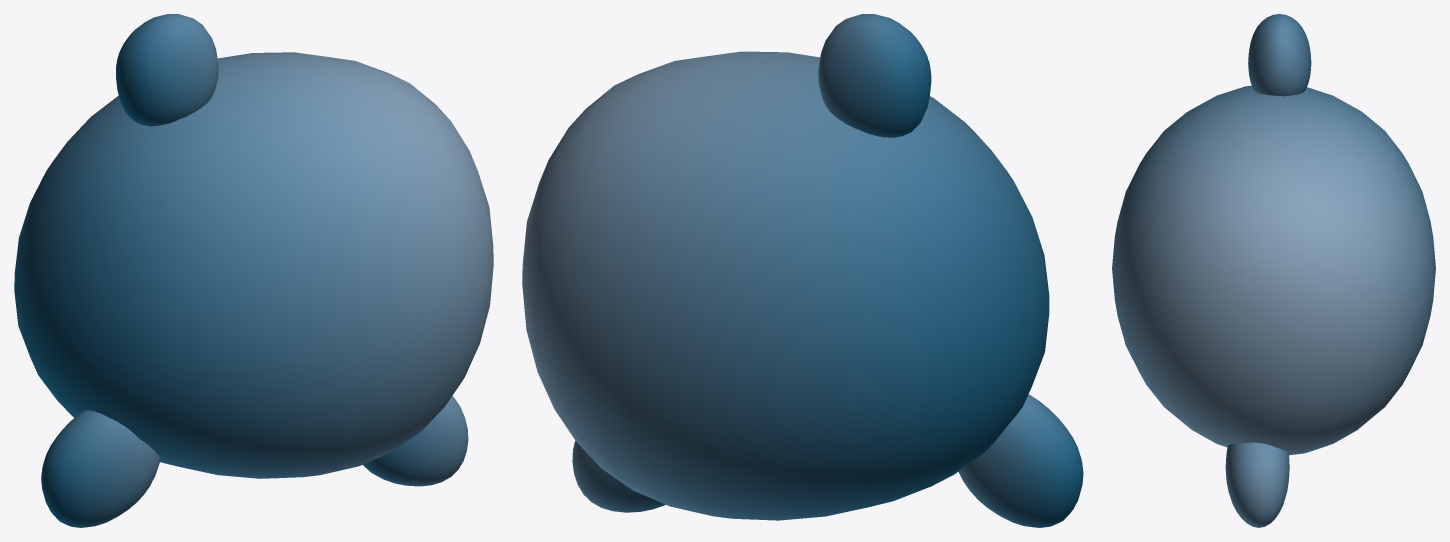
The model's file is Cola_Personaje.glb.
3 renders of one model, left to right at view 1: azimuth 30°, elevation 25°; view 2: azimuth 150°, elevation 25°; view 3: azimuth 270°, elevation 25°, orthographic. The views are drawn at different scales.
Parts seen in each view (by area): view 1: Pompa; view 2: Pompa; view 3: Pompa.
Part boxes in pixels (x1,y1,x2,y2): Pompa: (14,14,493,527); Pompa: (522,14,1083,527); Pompa: (1112,14,1435,527).
Bounding box in the file's own units: 0.7676 × 0.841 × 0.6018.
Materials: 1 (1 with a texture image).
